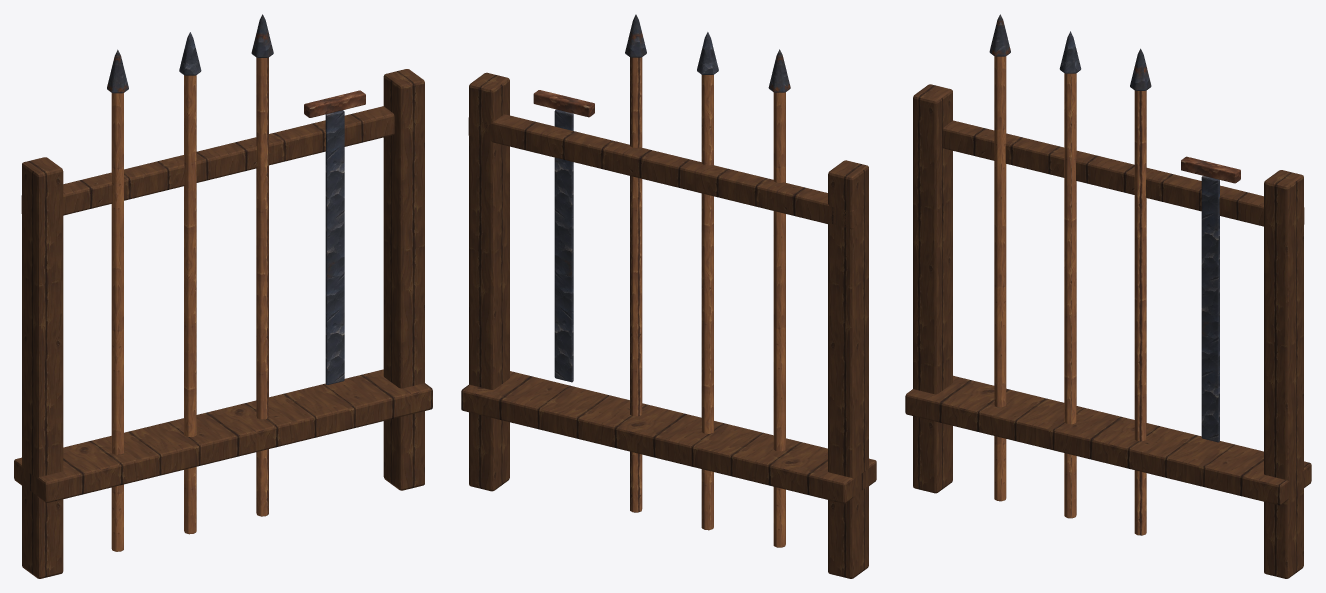
File: weapon_rack__plank_root.glb
3 views of the same model, side by side, from view 1: azimuth 30°, elevation 25°; view 2: azimuth 150°, elevation 25°; view 3: azimuth 330°, elevation 25° (orthographic). The views are drawn at different scales.
Parts seen in each view (by area): view 1: model; view 2: model; view 3: model.
Boxes of the visible parts, x1,y1,x2,y2 form: model: [14, 14, 432, 578]; model: [461, 14, 876, 578]; model: [905, 14, 1311, 578].
Size of the model in its own units: 1.5 by 1.87 by 0.22.
4 materials, 4 textured.
